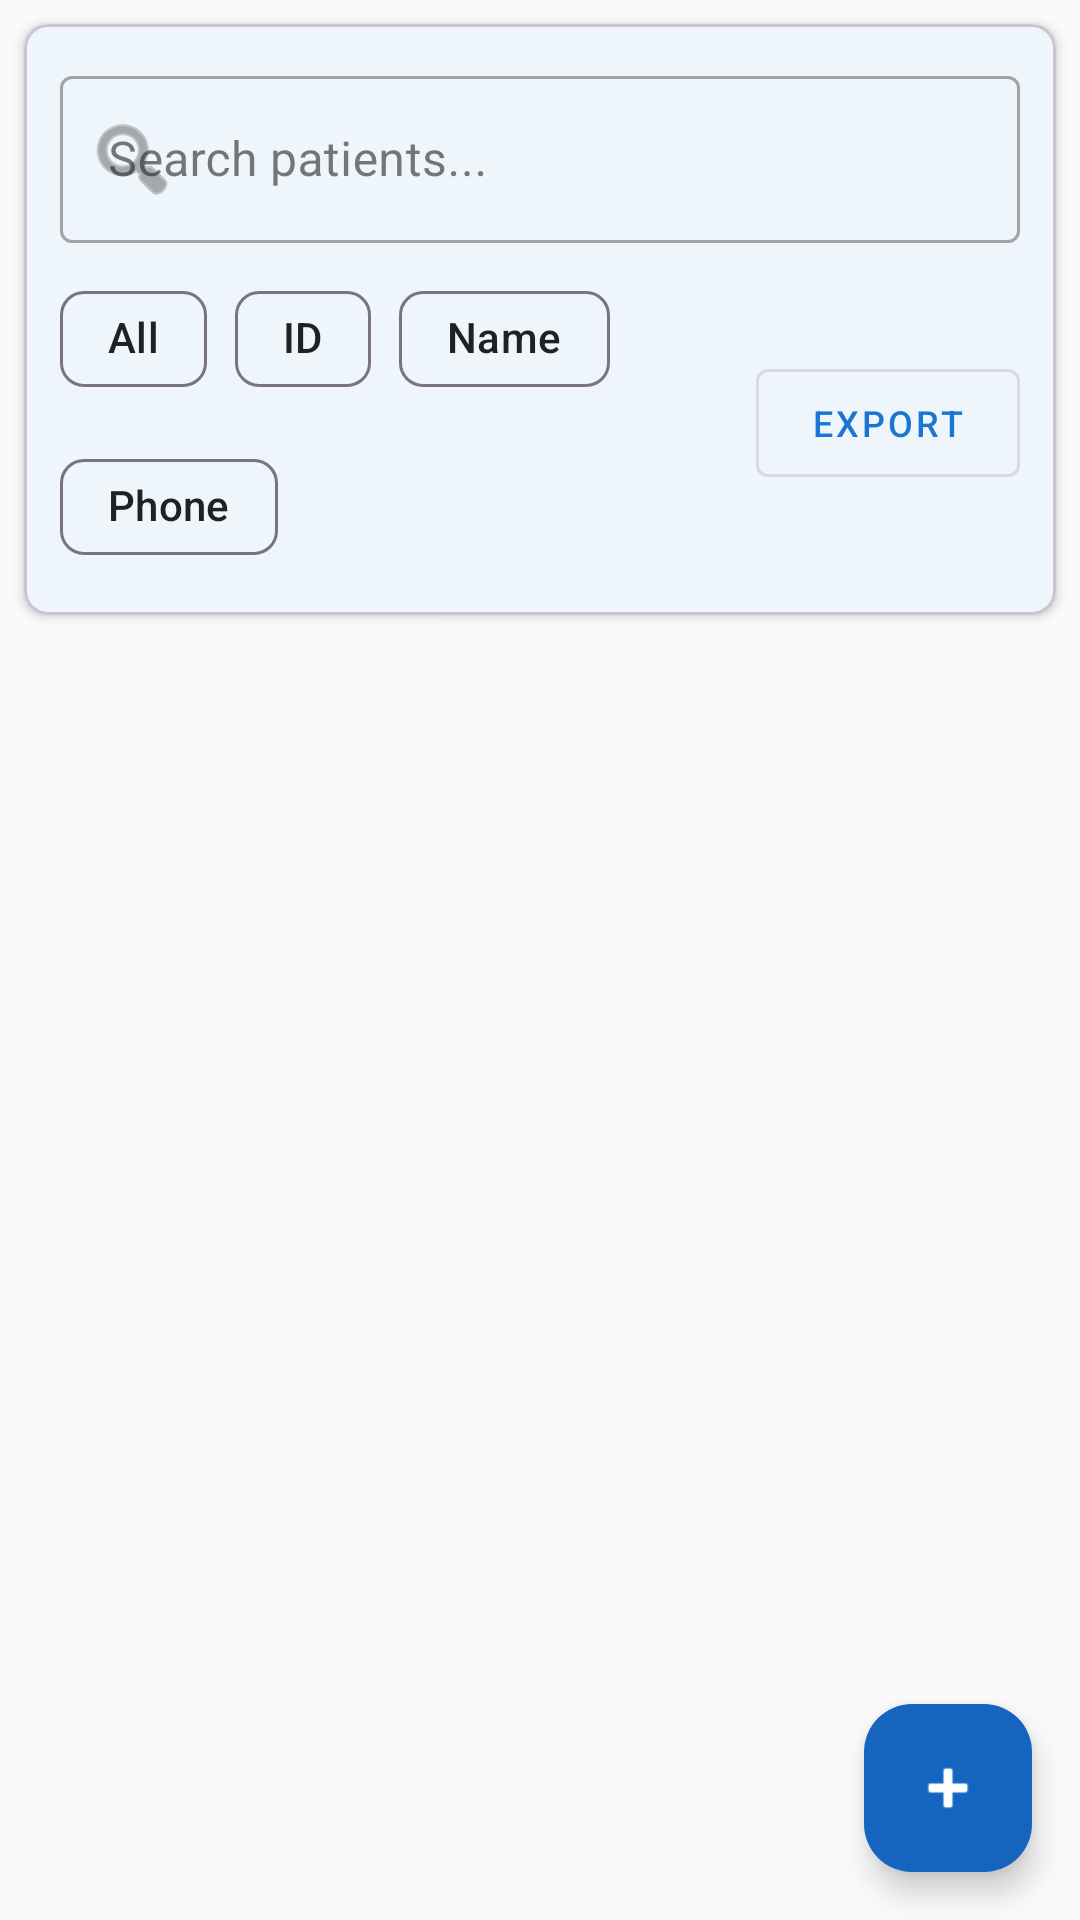

Icon bounding boxes for this 1080*1920 phone screenshot, format rect(x1, y1, x2, y2):
Add Patient: rect(864, 1704, 1032, 1872)
